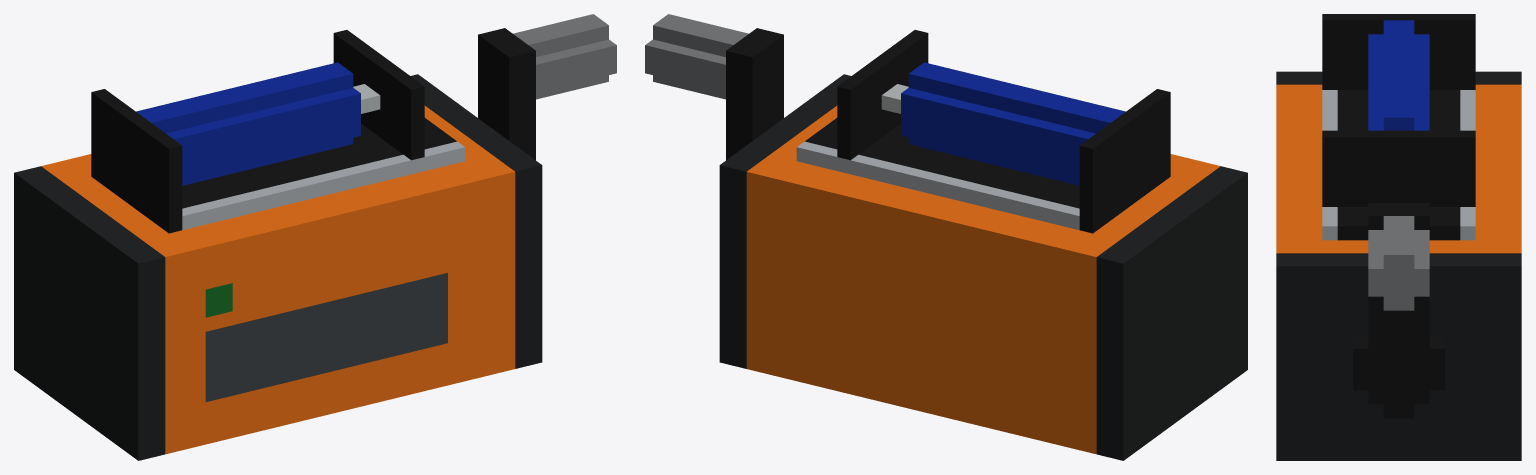
File: hand_crank_charger.glb
3 renders of one model, left to right at view 1: azimuth 30°, elevation 25°; view 2: azimuth 150°, elevation 25°; view 3: azimuth 270°, elevation 25°, orthographic.
Parts seen in each view (by area): view 1: hand_crank_charger:compound; view 2: hand_crank_charger:compound; view 3: hand_crank_charger:compound.
Part boxes in pixels (x1,y1,x2,y2): hand_crank_charger:compound: [14, 14, 616, 460]; hand_crank_charger:compound: [645, 14, 1247, 460]; hand_crank_charger:compound: [1276, 14, 1521, 460].
Size of the model in its own units: 0.156 by 0.08 by 0.064.
